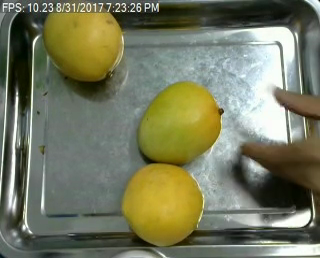Mango: (41, 1, 126, 82), (122, 164, 206, 245), (139, 80, 219, 162)
